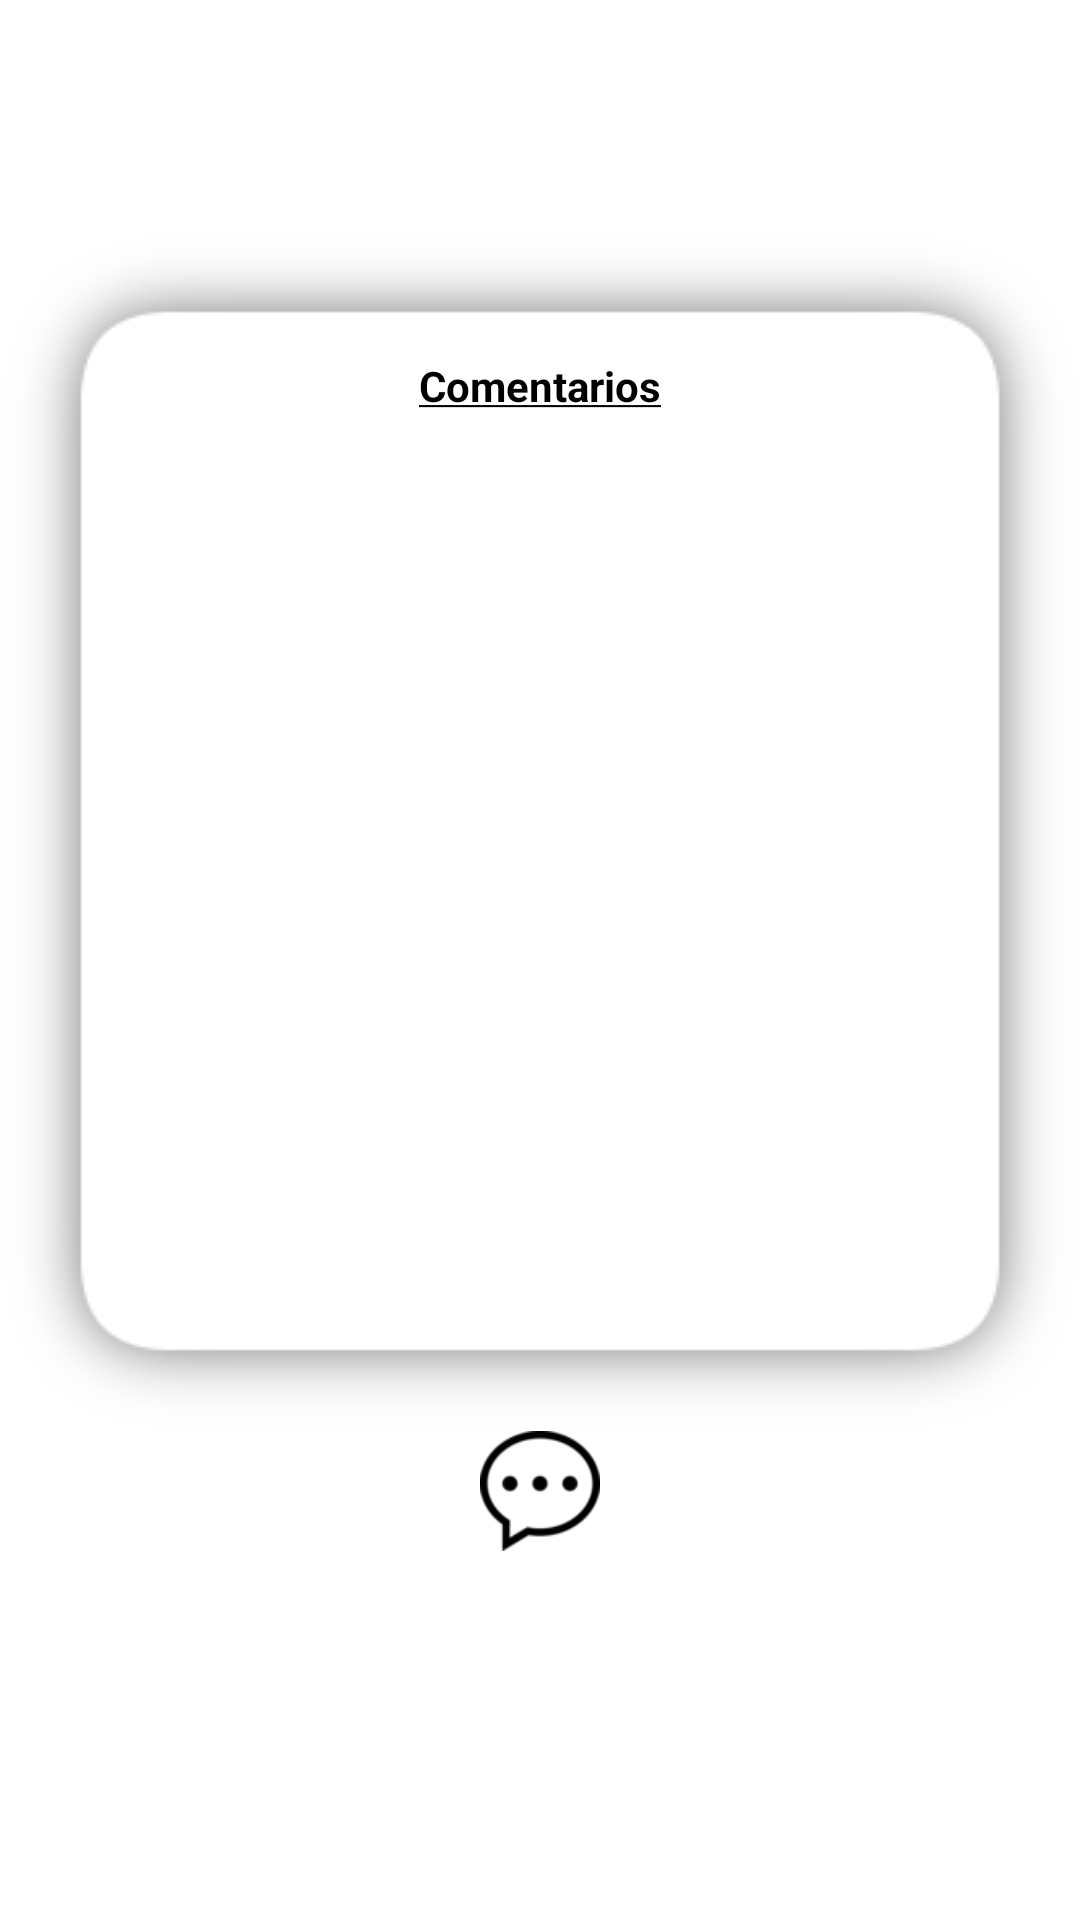

Where icons sit on this 1080px×1920px app screen, as (left=x1, top=y1, right=x2, bottom=y2):
comment: (left=480, top=1431, right=600, bottom=1551)
